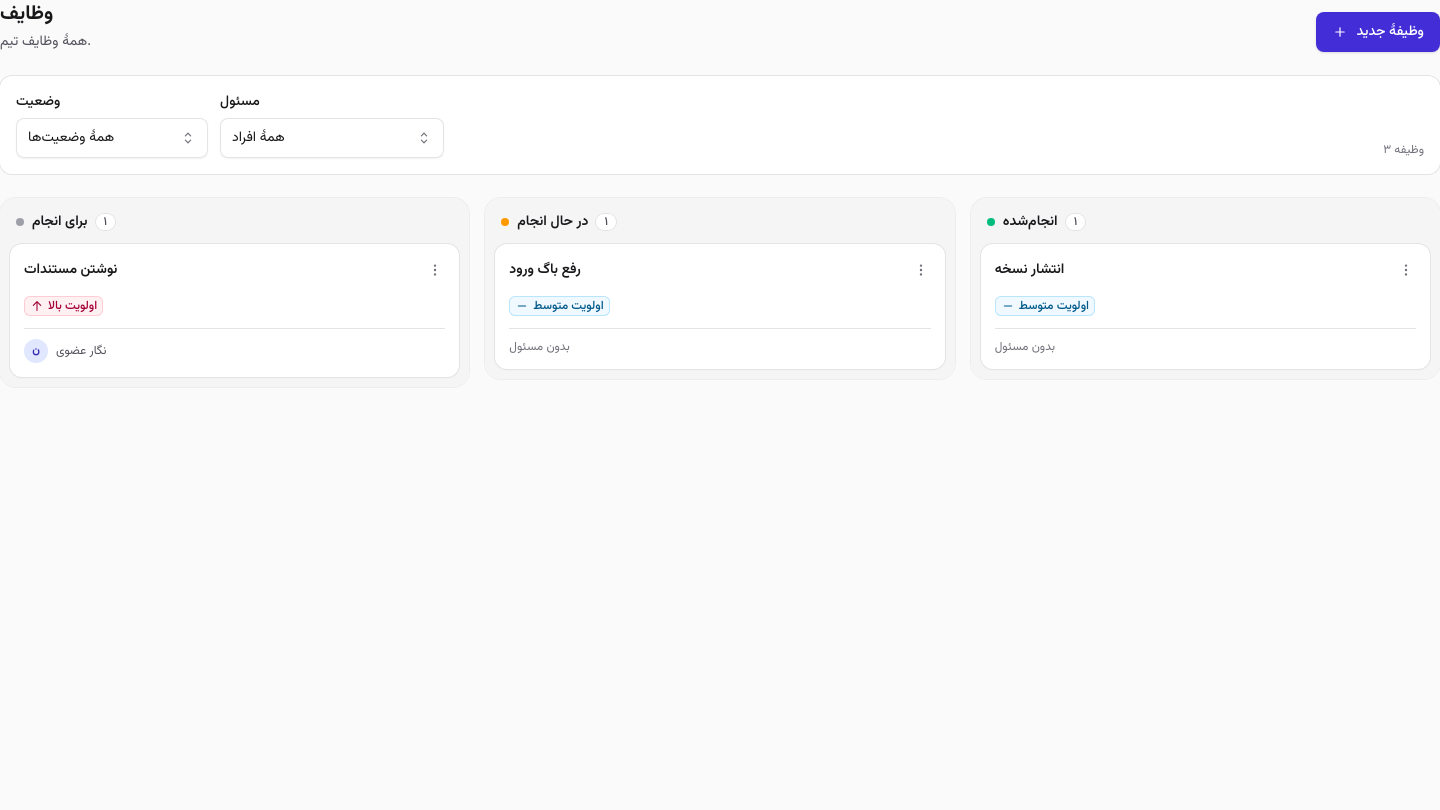
Test: TaskBoard › validates and creates a task with a TipTap JSON description
This screenshot has width=1440, height=810.
Check: the button "نوشتن مستندات" is shown, box [24, 258, 117, 282]
Click the button "وظیفهٔ جدید" at (1378, 32), box [1316, 12, 1439, 52]
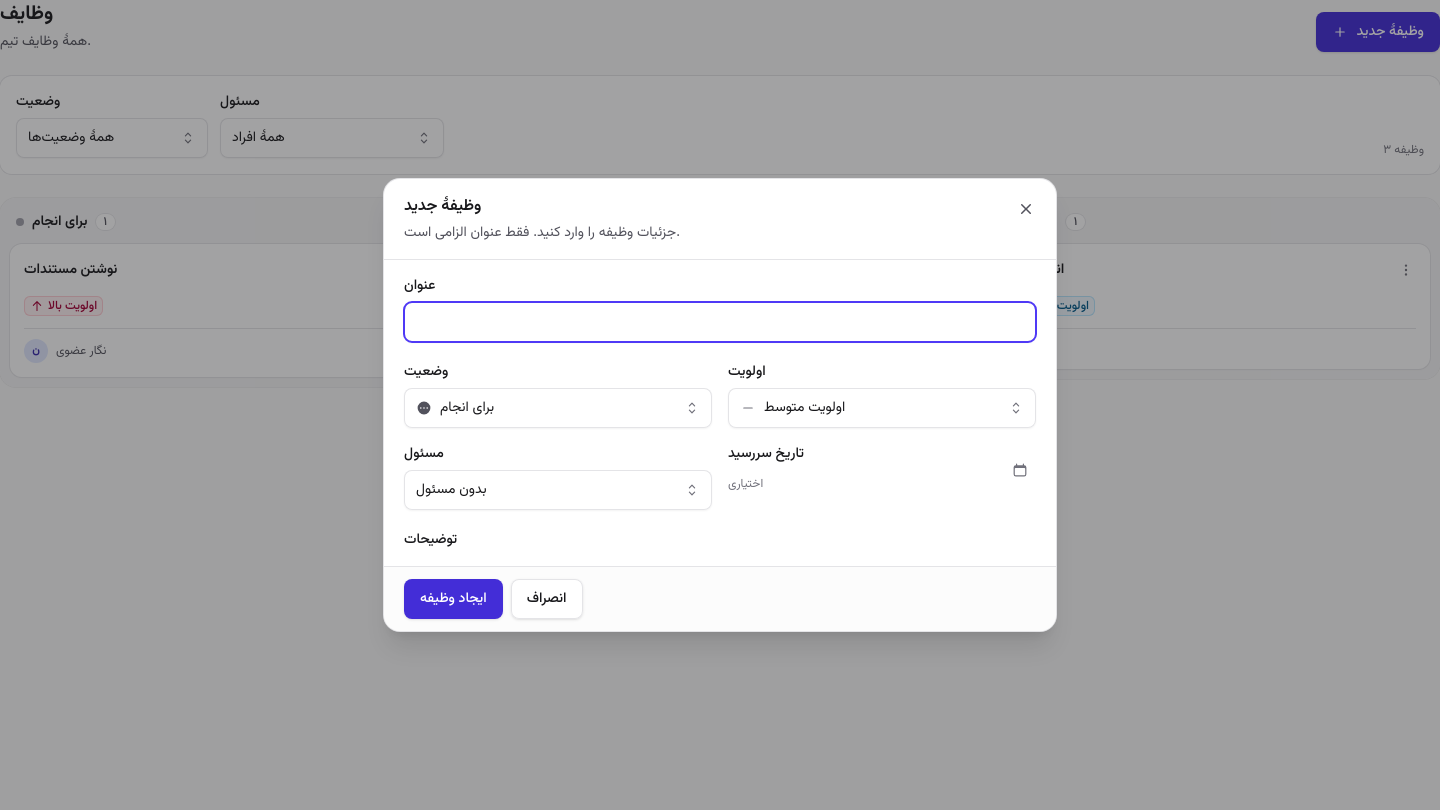
Click the button "ایجاد وظیفه" at (453, 599), box [404, 579, 503, 619]
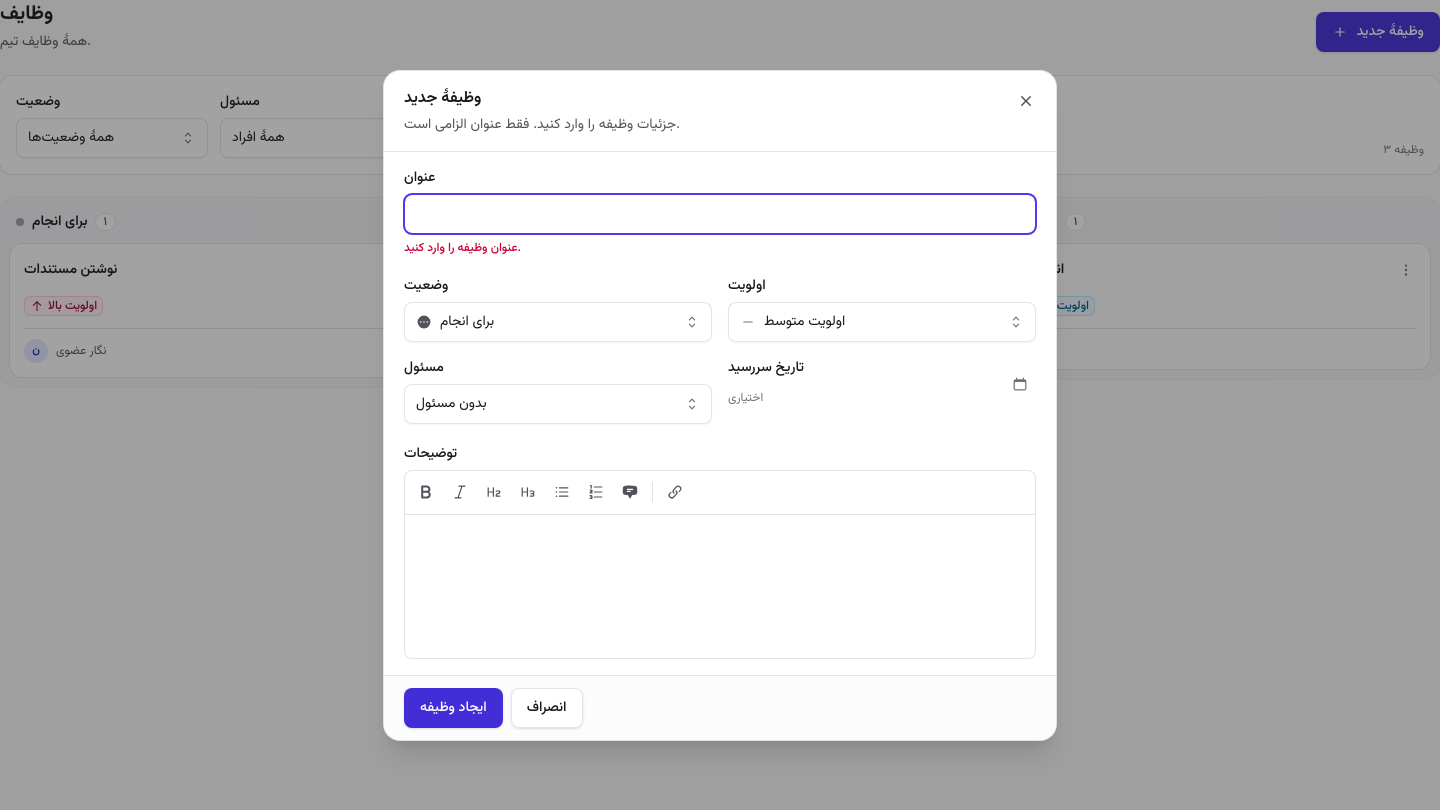
Check: the text "عنوان وظیفه را وارد کنید." is shown, box [404, 238, 521, 256]
Type "  تست وظیفه  " into the field labelled "عنوان" at (720, 214), box [404, 194, 1036, 234]
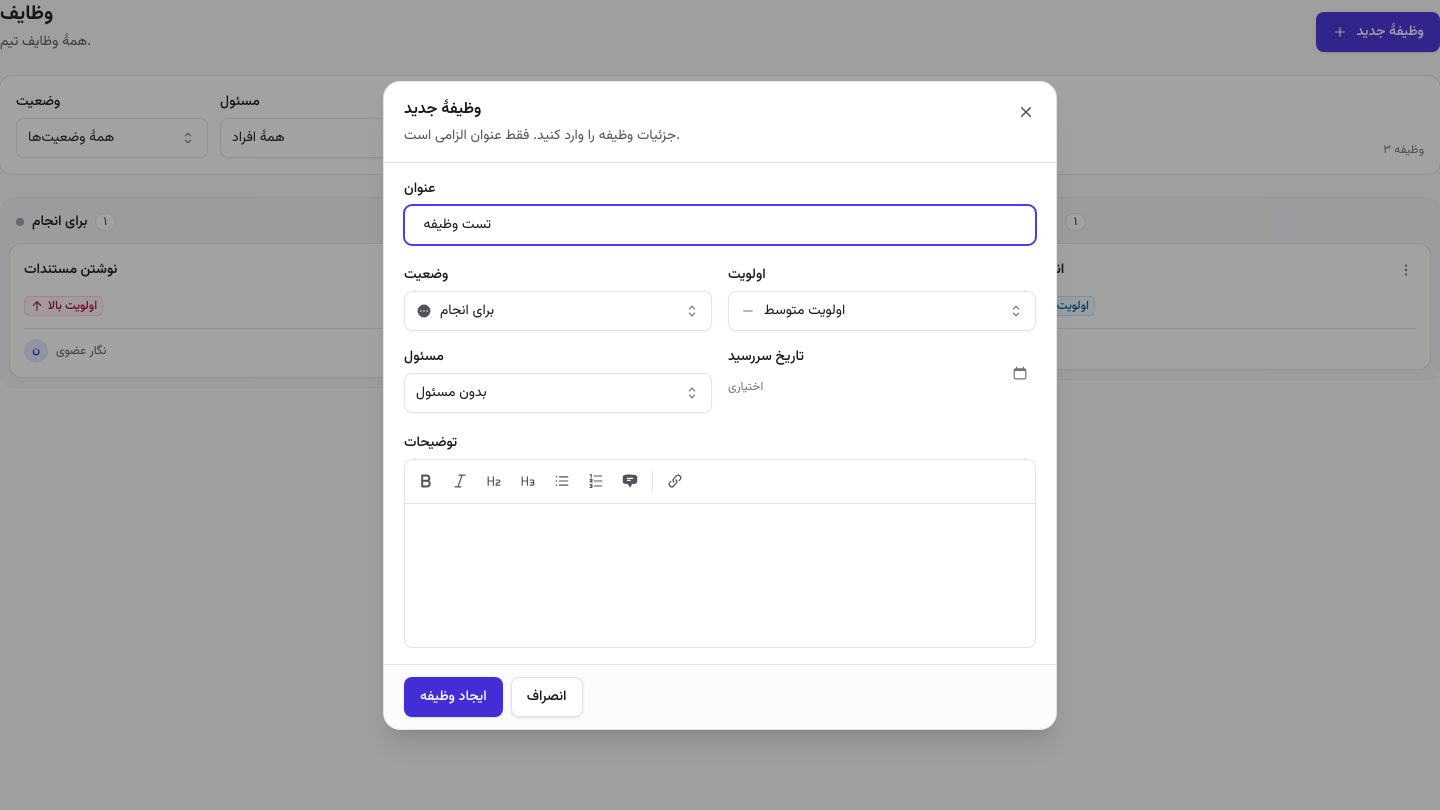
Click the button "ایجاد وظیفه" at (453, 696), box [404, 676, 503, 716]
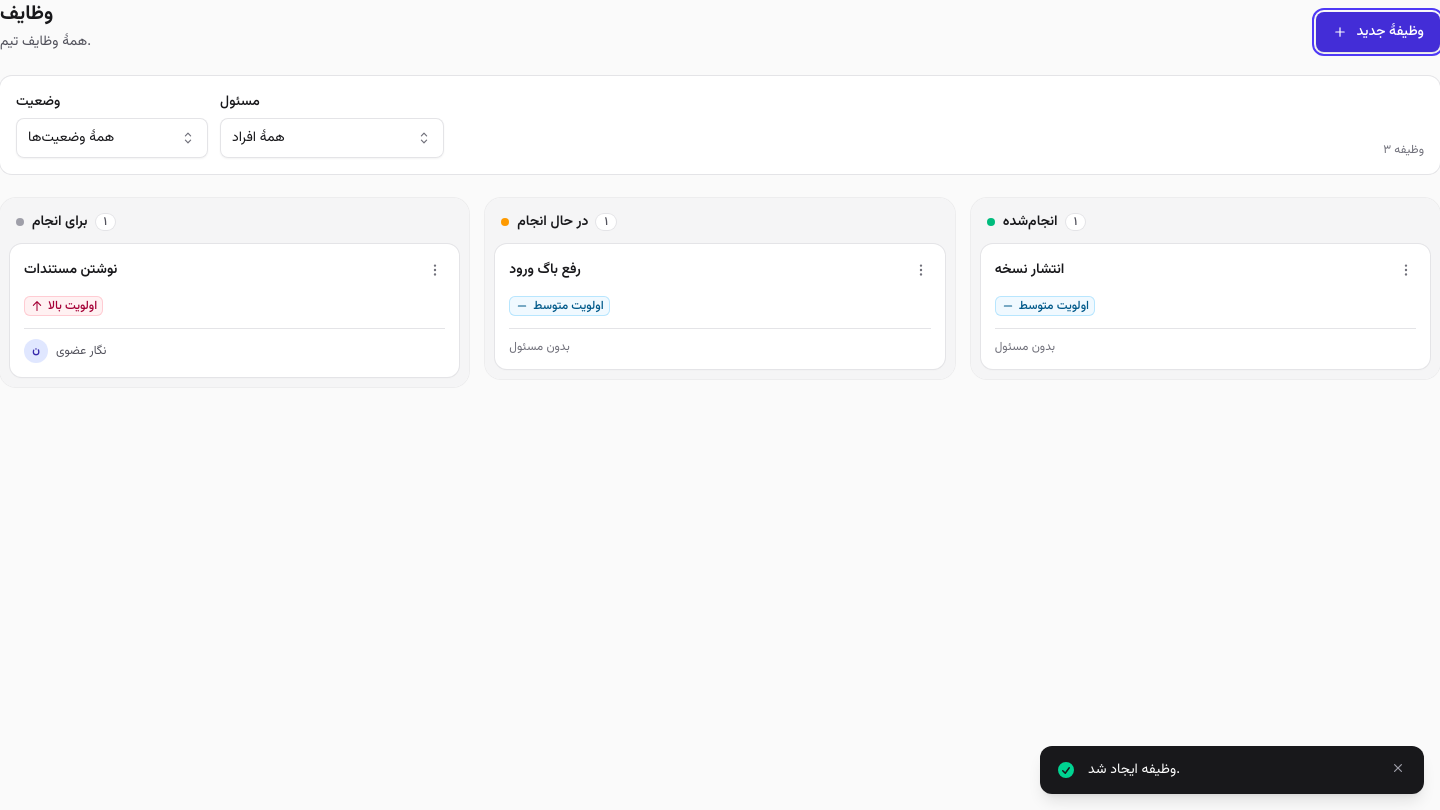
Check: the text "وظیفه ایجاد شد." is shown, box [1088, 759, 1180, 781]
